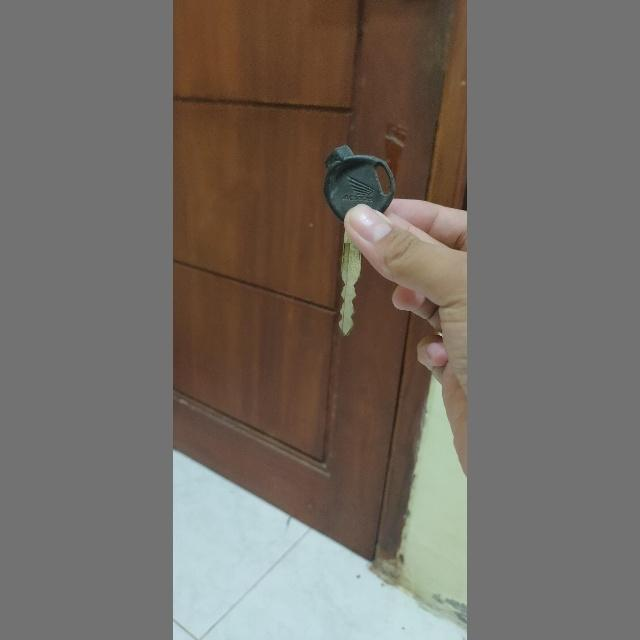Keys: (317, 136, 403, 344)
